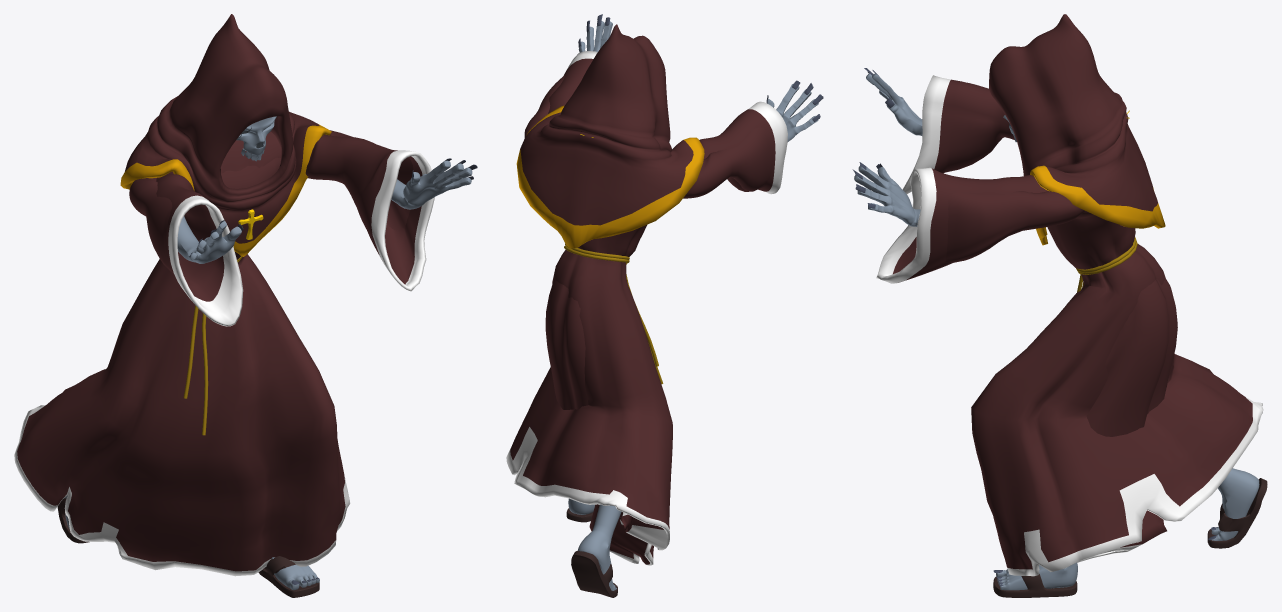
File: espanto.glb
The picture shows the model from 3 angles, left to right: view 1: azimuth 30°, elevation 25°; view 2: azimuth 150°, elevation 25°; view 3: azimuth 270°, elevation 25°; orthographic projection. The views are drawn at different scales.
Visible parts, largest first — view 1: Traje_Completo, CapaSup2, ManoIzquierda, ManoDerecha, Zapatos, Cordon, Craneo, Pie; view 2: Traje_Completo, CapaSup2, Pie, Zapatos, ManoDerecha, ManoIzquierda, Cordon; view 3: Traje_Completo, CapaSup2, Pie, Zapatos, ManoIzquierda, ManoDerecha, Cordon.
Part boxes in pixels (x1,y1,x2,y2): Traje_Completo: (14,130,434,576); CapaSup2: (120,14,331,256); ManoIzquierda: (391,158,477,209); ManoDerecha: (177,216,243,263); Zapatos: (57,498,319,597); Cordon: (183,256,242,435); Craneo: (236,116,276,154); Pie: (64,495,319,590); Traje_Completo: (506,51,787,565); CapaSup2: (516,24,704,248); Pie: (568,498,621,590); Zapatos: (566,508,617,597); ManoDerecha: (766,80,823,141); ManoIzquierda: (578,14,612,52); Cordon: (564,243,663,384); Traje_Completo: (876,75,1263,576); CapaSup2: (989,14,1165,245); Pie: (993,468,1259,590); Zapatos: (993,478,1267,597); ManoIzquierda: (852,162,920,226); ManoDerecha: (864,68,922,135); Cordon: (1076,237,1137,292).
Bounding box in the file's own units: 0.9874 × 1.93 × 1.29.
